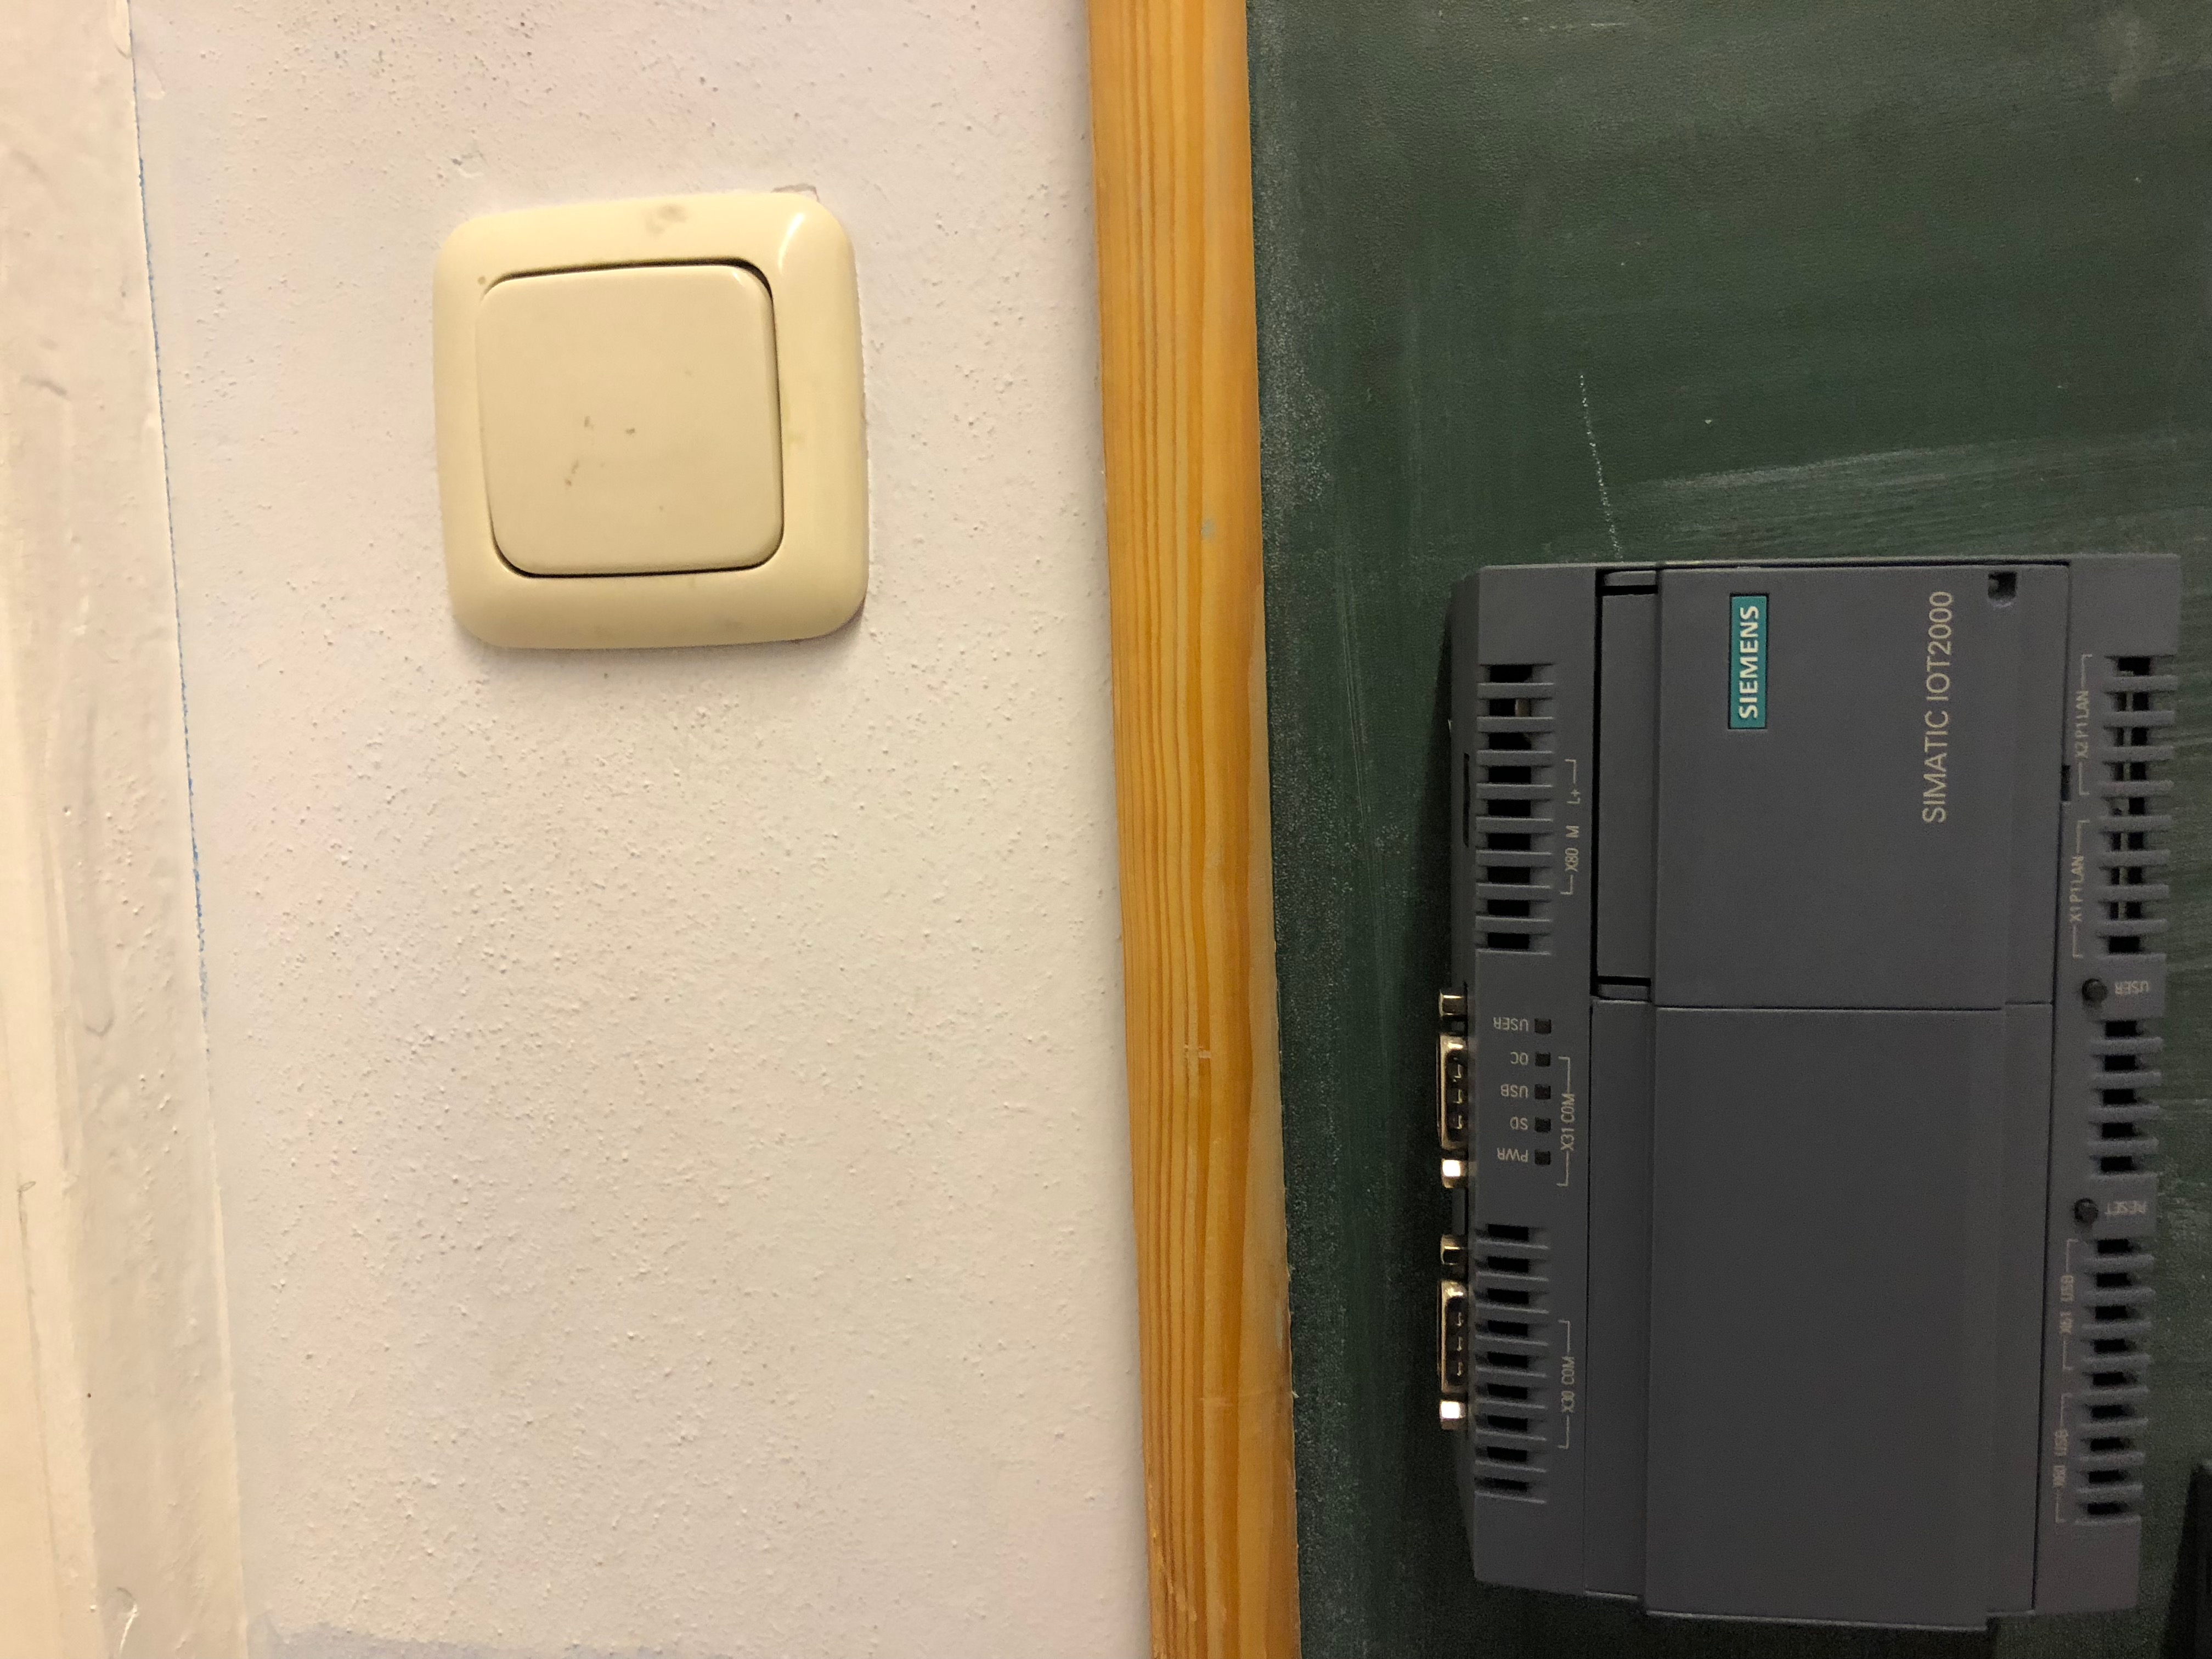device: (1435, 554, 2182, 1631)
